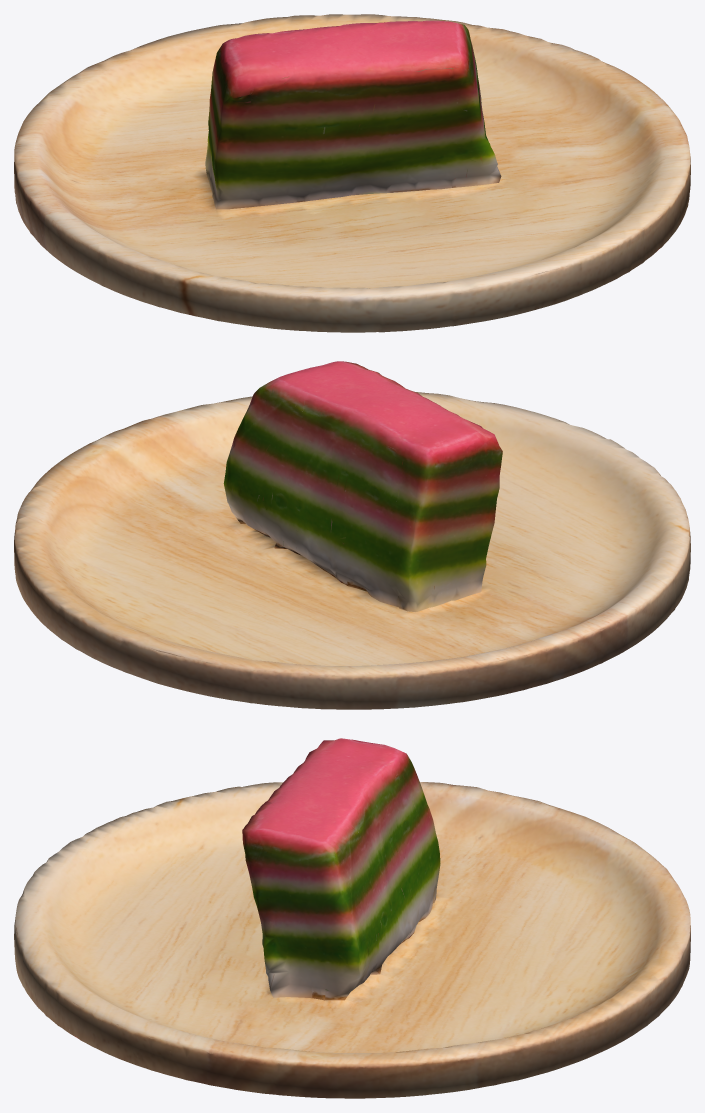
File: kueh-lapis.glb
3 views of the same model, one above another, from view 1: azimuth 30°, elevation 25°; view 2: azimuth 150°, elevation 25°; view 3: azimuth 270°, elevation 25° (orthographic).
Visible parts, largest first — view 1: kueh_lapis lowpoly; view 2: kueh_lapis lowpoly; view 3: kueh_lapis lowpoly.
Boxes of the visible parts, x1,y1,x2,y2 form: kueh_lapis lowpoly: (14,14,690,332); kueh_lapis lowpoly: (14,361,690,709); kueh_lapis lowpoly: (14,738,690,1098).
Size of the model in its own units: 4.59 by 1.23 by 4.59.
1 material, 1 textured.
